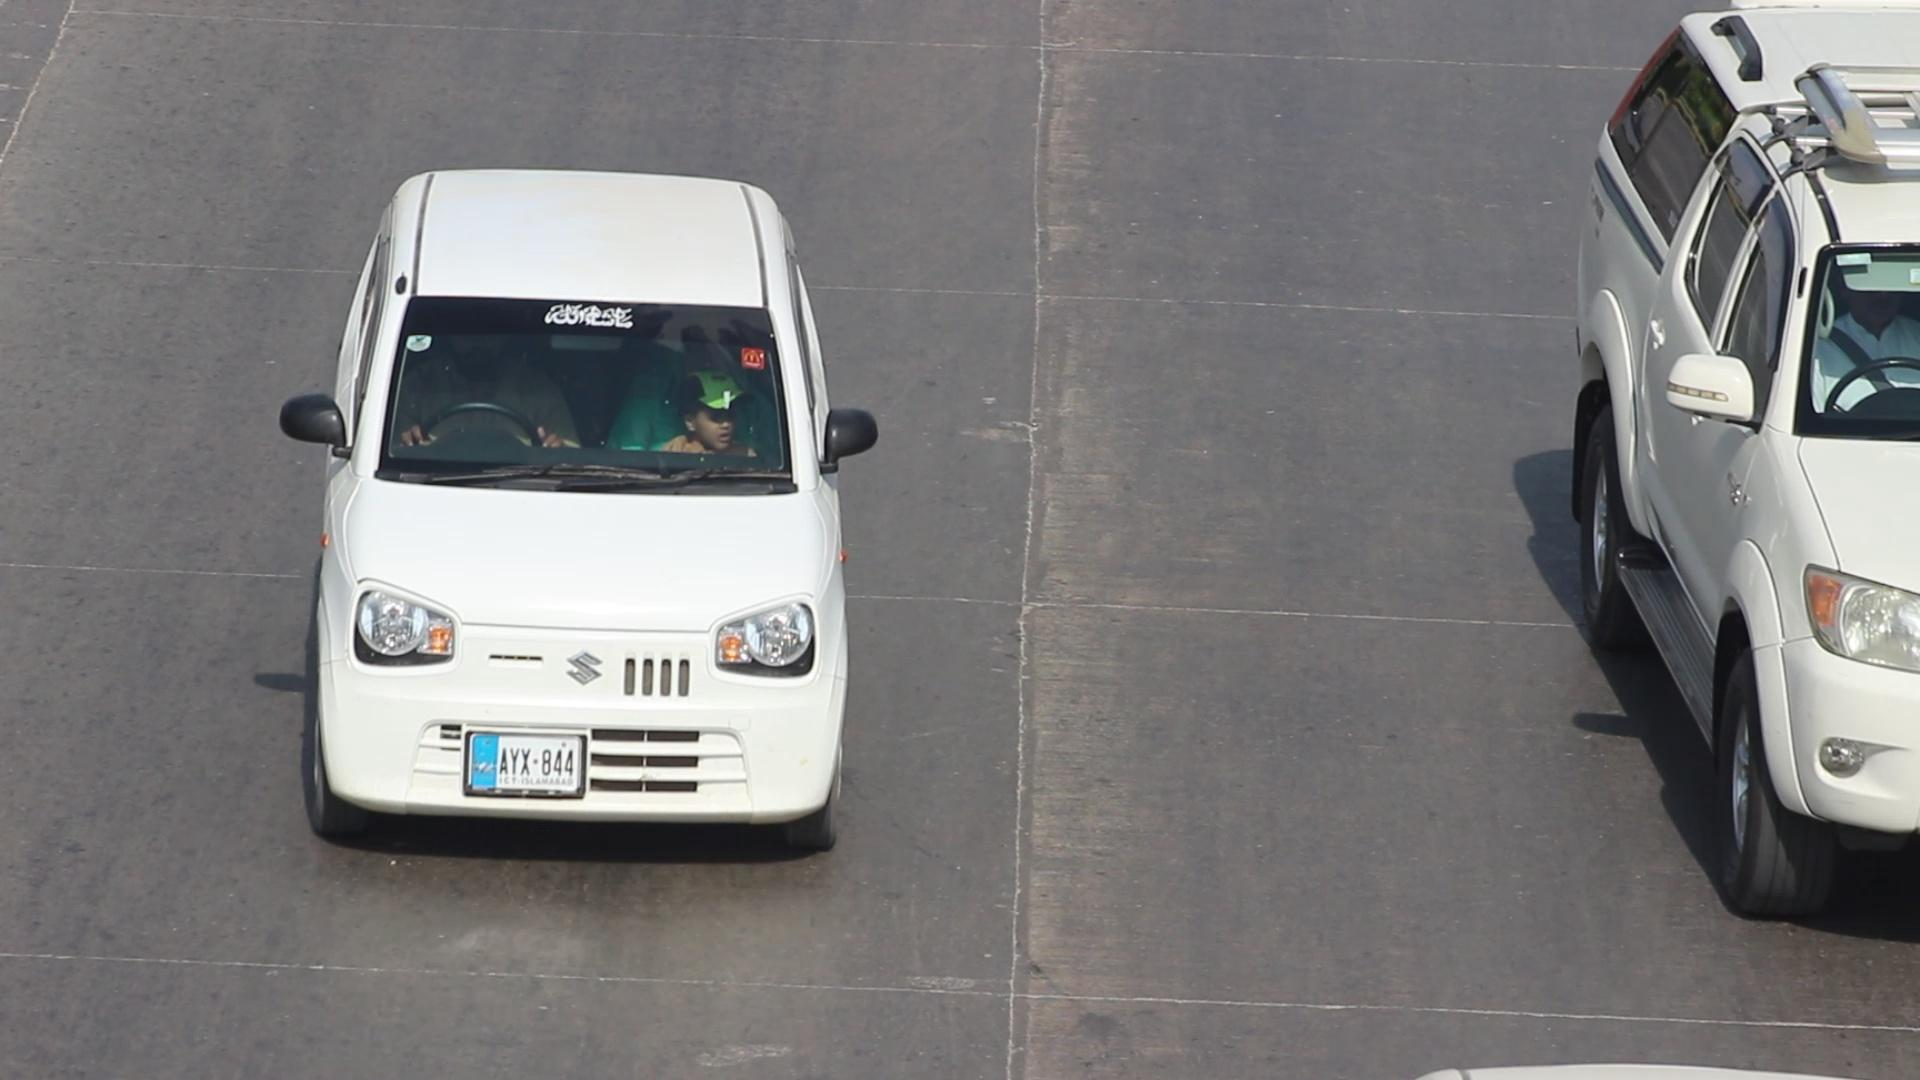windshield: (371, 273, 798, 493)
